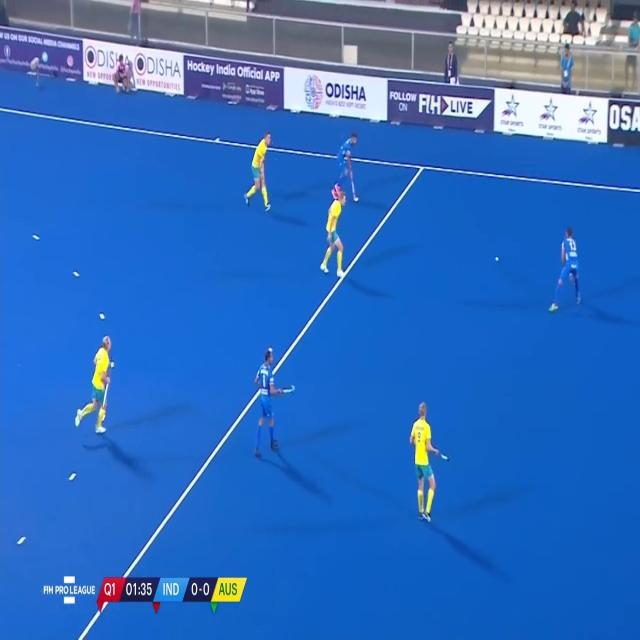ball: (495, 253, 500, 262)
